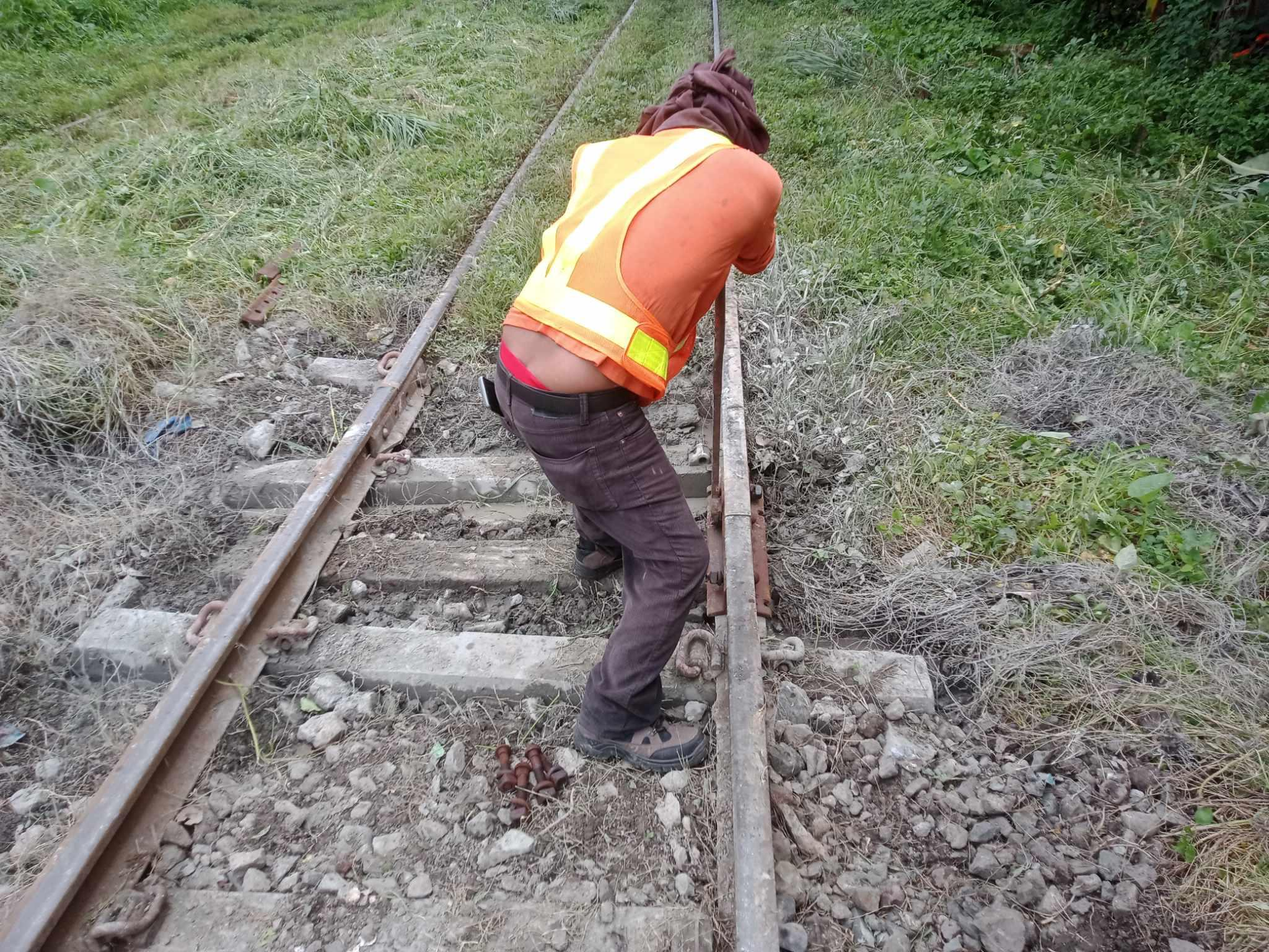railway-gap: (697, 471, 774, 556)
